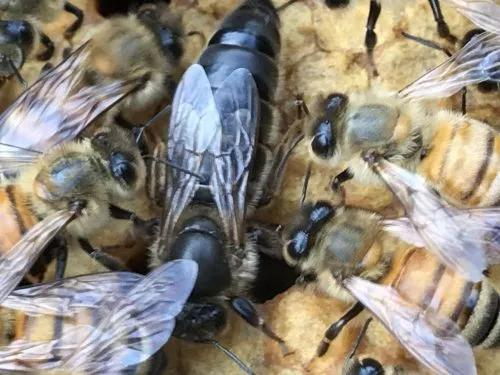Queen-Bee: (148, 0, 299, 353)
worker-bee: (283, 201, 499, 374), (0, 130, 143, 288), (310, 89, 499, 208)
